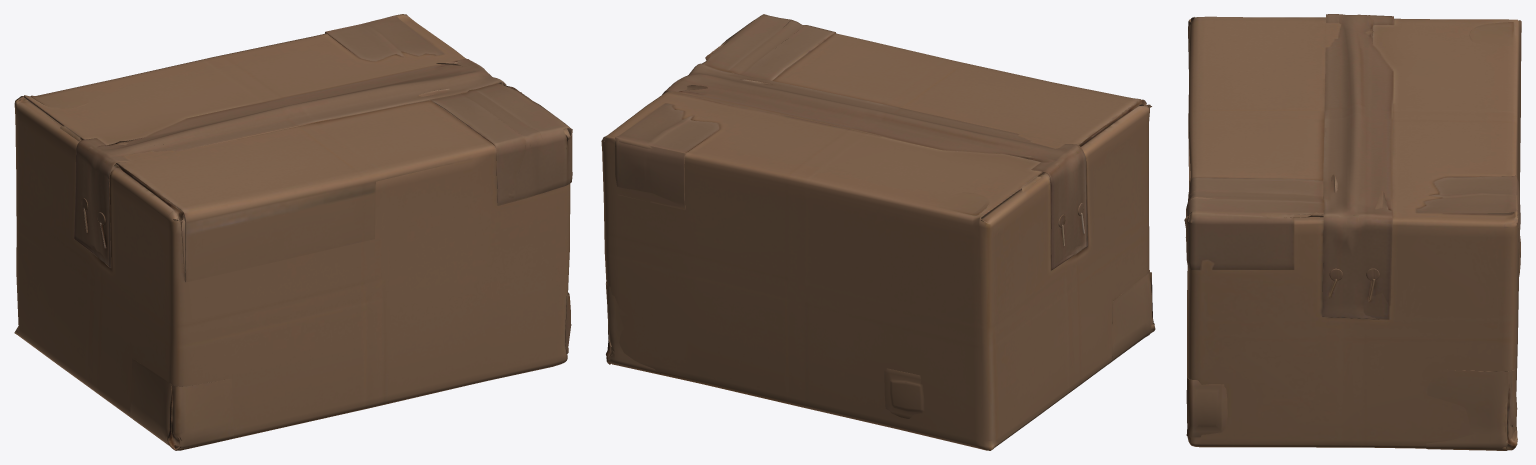
Rendered from kutija.glb.
3 renders of one model, left to right at view 1: azimuth 30°, elevation 25°; view 2: azimuth 150°, elevation 25°; view 3: azimuth 270°, elevation 25°, orthographic.
Parts seen in each view (by area): view 1: tripo_node_08bcc0c2-e496-4806-a5da-096679364661; view 2: tripo_node_08bcc0c2-e496-4806-a5da-096679364661; view 3: tripo_node_08bcc0c2-e496-4806-a5da-096679364661.
Boxes of the visible parts, x1,y1,x2,y2 form: tripo_node_08bcc0c2-e496-4806-a5da-096679364661: [14, 14, 572, 450]; tripo_node_08bcc0c2-e496-4806-a5da-096679364661: [601, 14, 1155, 450]; tripo_node_08bcc0c2-e496-4806-a5da-096679364661: [1184, 14, 1521, 450].
Size of the model in its own units: 0.9995 by 0.5884 by 0.7183.
Materials: 1 (1 with a texture image).
